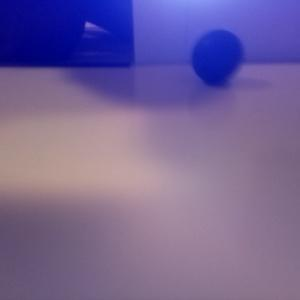dead_ball: (191, 29, 243, 83)
